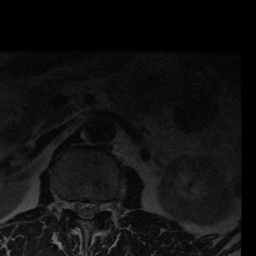CCS_normal: (82, 195, 90, 225)
LFS_normal: (99, 193, 108, 217)
LLS_normal: (90, 193, 98, 222)
RFS_normal: (63, 193, 73, 217)
RLS_normal: (73, 193, 82, 219)
